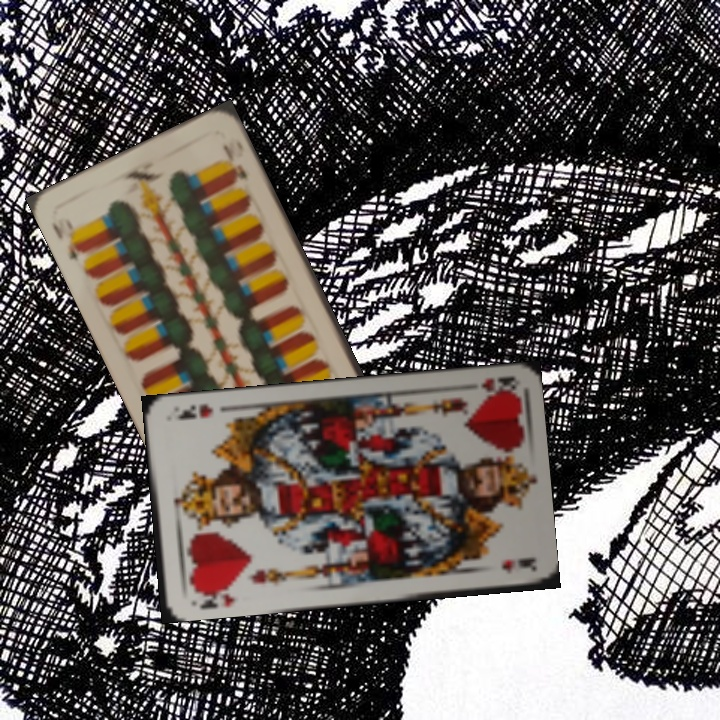E10: (47, 217, 89, 264)
HK: (190, 581, 238, 611), (477, 373, 516, 399)
